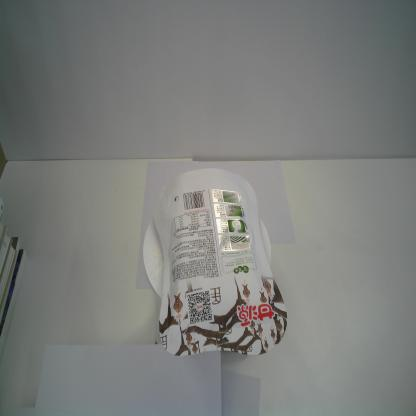Dried Fruit: (152, 167, 288, 358)
